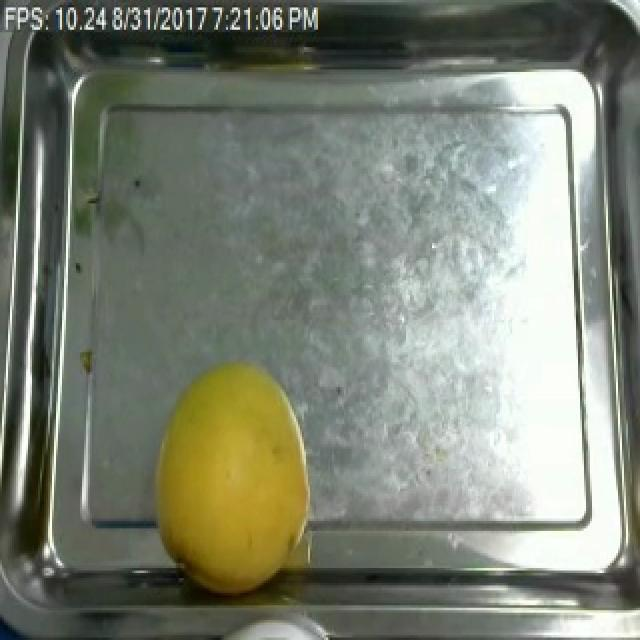fruit: (136, 348, 322, 606)
